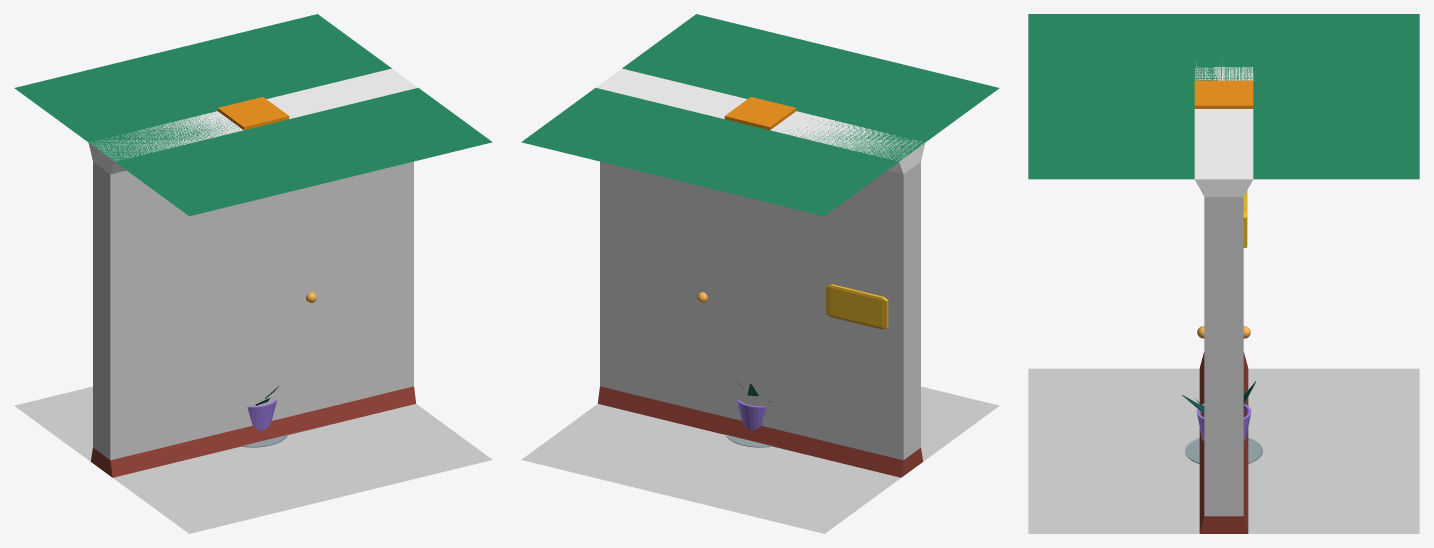
File: HotelCorridor.fbx
3 renders of one model, left to right at view 1: azimuth 30°, elevation 25°; view 2: azimuth 150°, elevation 25°; view 3: azimuth 270°, elevation 25°, orthographic. The views are drawn at different scales.
Parts seen in each view (by area): view 1: Wall, Ceil, Floor, Wall.Door, Lamp, Plant; view 2: Wall, Ceil, Floor, NumberPlate, Lamp, Plant, Wall.Door; view 3: Ceil, Floor, Wall, Lamp, Wall.Door, Plant, Tray.
Boxes of the visible parts, <box> form: Wall: <box>88,68,417,477</box>; Ceil: <box>14,14,492,216</box>; Floor: <box>14,386,492,533</box>; Wall.Door: <box>90,145,415,476</box>; Lamp: <box>217,97,289,130</box>; Plant: <box>247,386,278,430</box>; Wall: <box>596,68,925,477</box>; Ceil: <box>521,14,999,216</box>; Floor: <box>521,386,999,533</box>; NumberPlate: <box>826,284,888,329</box>; Lamp: <box>724,97,796,130</box>; Plant: <box>737,380,771,430</box>; Wall.Door: <box>598,146,921,476</box>; Ceil: <box>1028,14,1419,179</box>; Floor: <box>1028,368,1419,533</box>; Wall: <box>1194,61,1253,533</box>; Lamp: <box>1194,80,1253,108</box>; Wall.Door: <box>1199,352,1248,527</box>; Plant: <box>1181,381,1256,441</box>; Tray: <box>1185,438,1262,463</box>.
Bounding box in the file's own units: 500 × 511 × 500.
